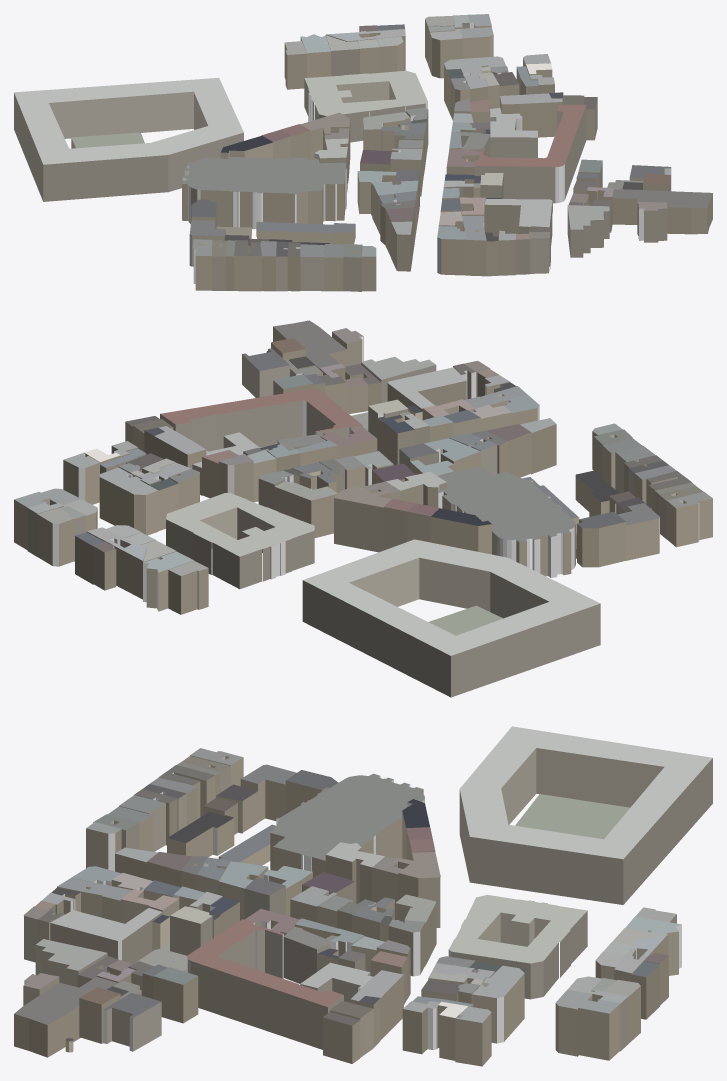
The picture shows the model from 3 angles, top to bottom: view 1: azimuth 30°, elevation 25°; view 2: azimuth 150°, elevation 25°; view 3: azimuth 270°, elevation 25°; orthographic projection. The views are drawn at different scales.
Parts seen in each view (by area): view 1: tuile; view 2: tuile; view 3: tuile.
Boxes of the visible parts, x1=… form: tuile: x1=14, y1=14, x2=712, y2=291; tuile: x1=14, y1=320, x2=712, y2=697; tuile: x1=14, y1=726, x2=712, y2=1066.
Size of the model in its own units: 277 by 27.18 by 276.
